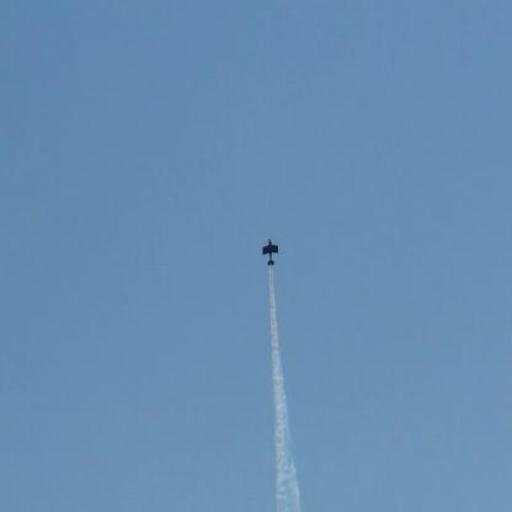aircraft: (262, 238, 278, 266)
